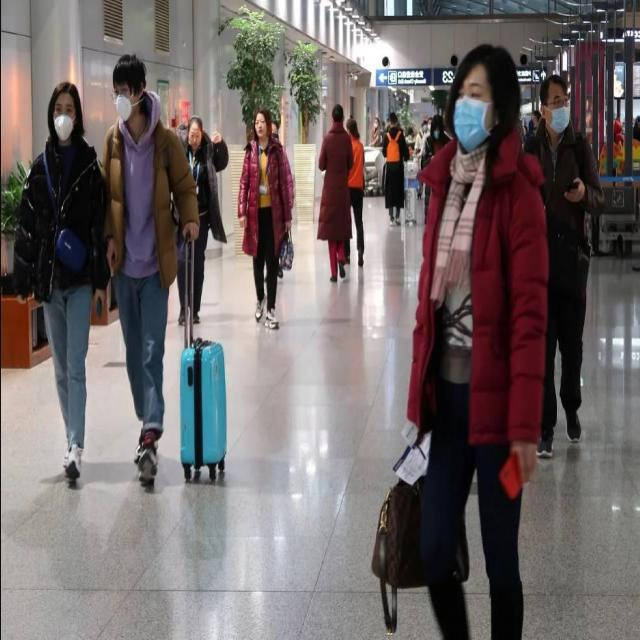face: (450, 40, 520, 162), (113, 49, 151, 126), (46, 75, 87, 146), (538, 71, 575, 131), (254, 104, 273, 143), (187, 113, 205, 153)
